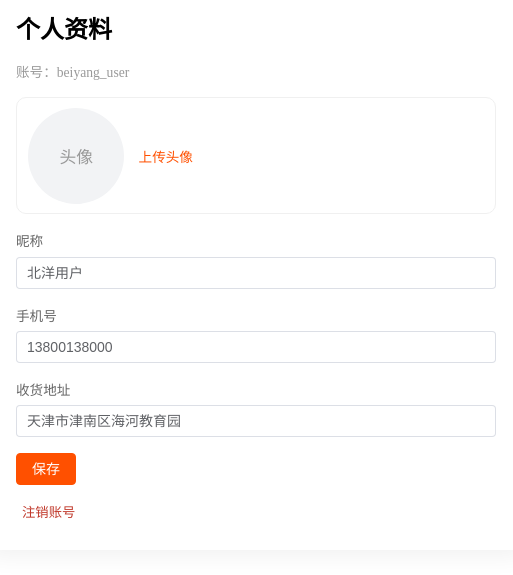
Test: 个人资料页 › 保存失败时展示错误提示
Replace the text in the field with test id "profile-phone" with "123" at point(256, 347), box [27,332,485,362]
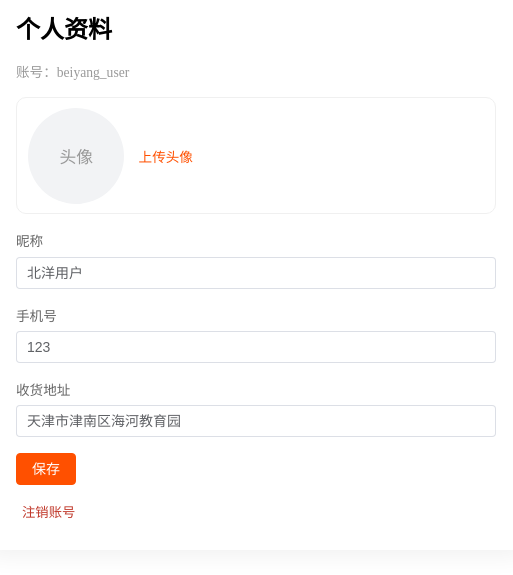
Click the button with test id "profile-save" at point(46, 469), box [16,453,76,485]
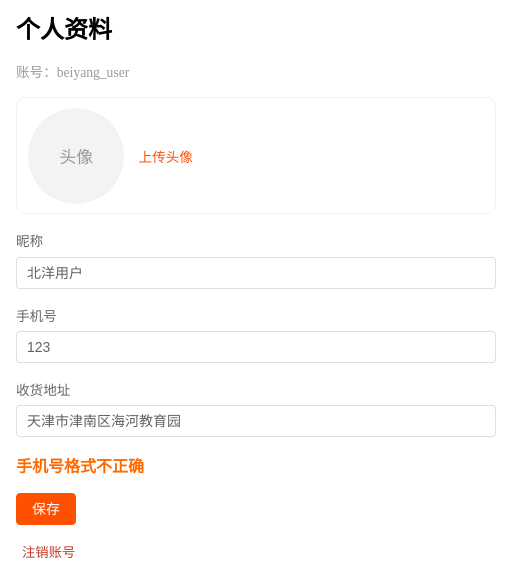
Expected: the message with test id "profile-message" reads "手机号格式不正确", [16,458,144,475]
